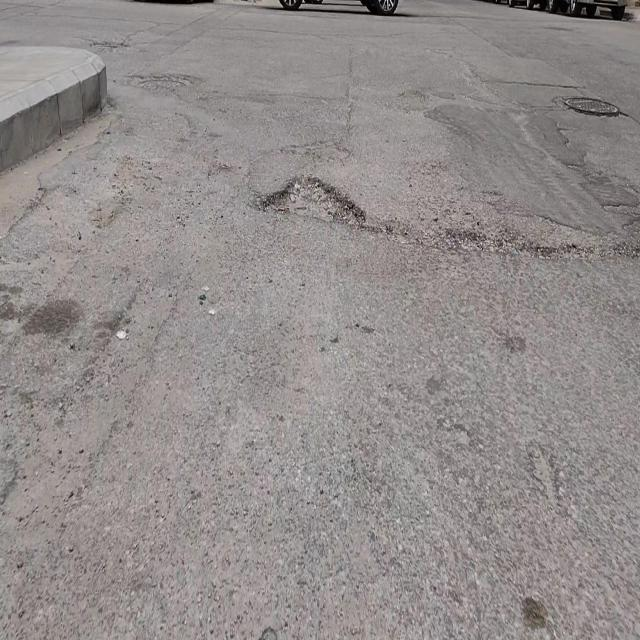Pothole: (262, 172, 368, 231)
